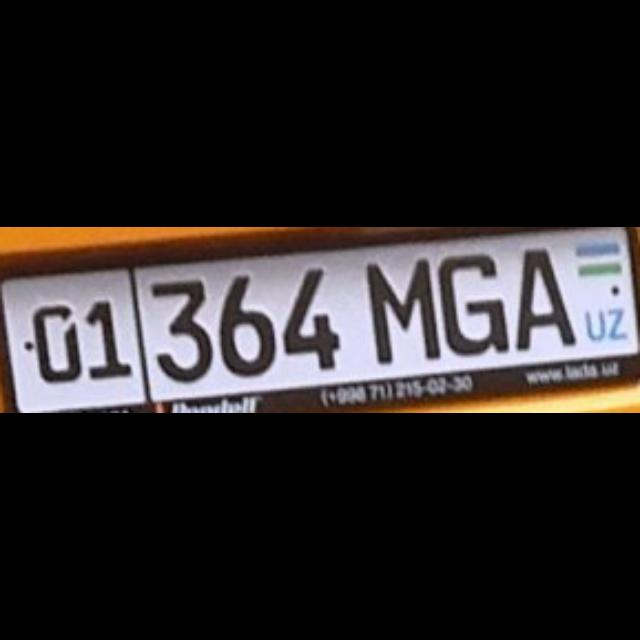0: (30, 302, 80, 380)
1: (84, 298, 128, 378)
3: (148, 278, 210, 380)
4: (282, 265, 336, 367)
6: (217, 273, 275, 373)
A: (514, 247, 574, 349)
G: (437, 251, 508, 353)
M: (366, 256, 438, 362)
